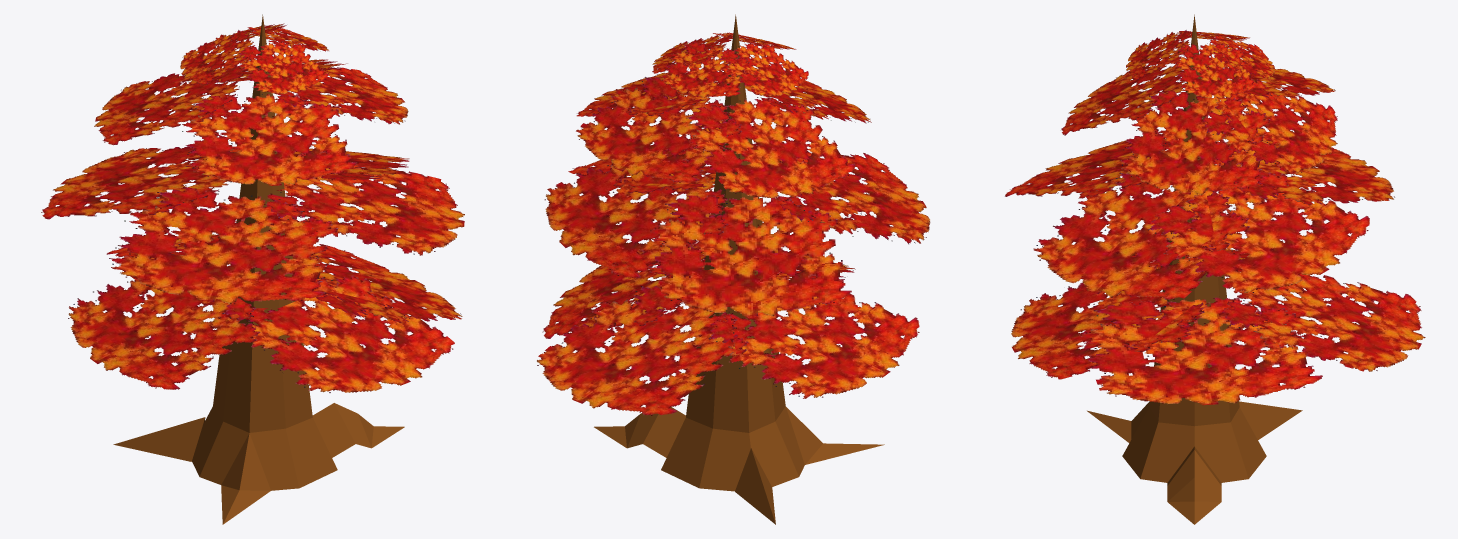
File: maple tree.glb
The picture shows the model from 3 angles, left to right: view 1: azimuth 30°, elevation 25°; view 2: azimuth 150°, elevation 25°; view 3: azimuth 270°, elevation 25°; orthographic projection.
Visible parts, largest first — view 1: mapletree; view 2: mapletree; view 3: mapletree.
Boxes of the visible parts, x1,y1,x2,y2 form: mapletree: [41, 14, 464, 524]; mapletree: [537, 14, 930, 524]; mapletree: [1005, 14, 1425, 524].
Bounding box in the file's own units: 1.9 × 2.11 × 1.99.
Materials: 2 (1 with a texture image).
